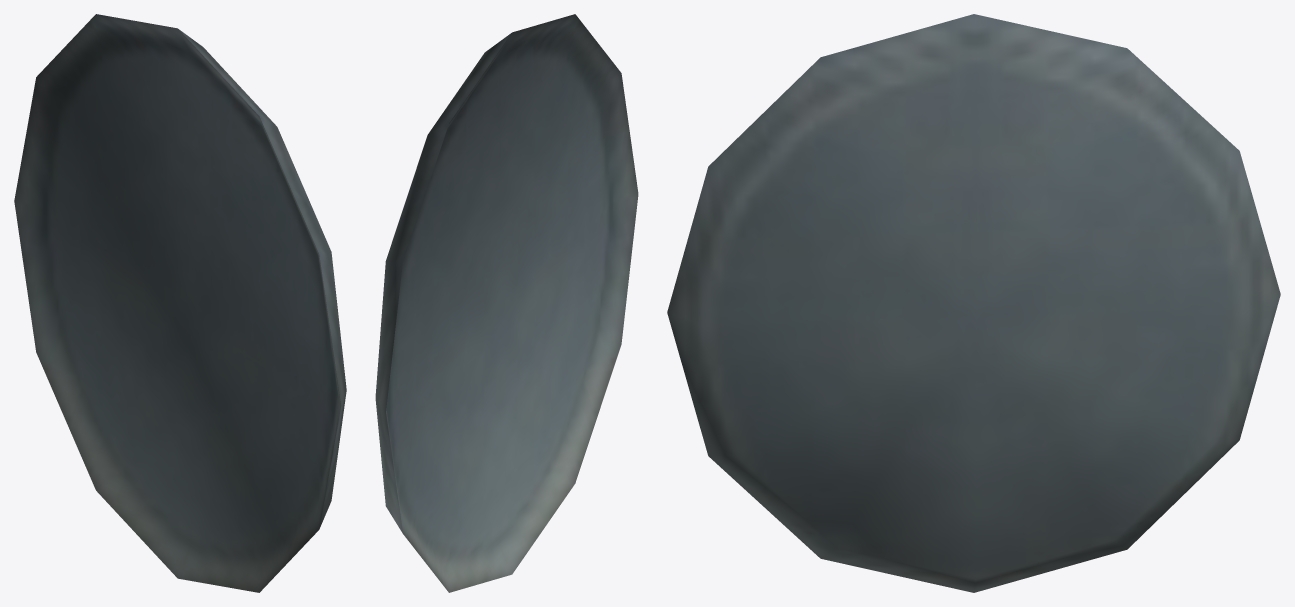
File: waitressTray.glb
3 views of the same model, side by side, from view 1: azimuth 30°, elevation 25°; view 2: azimuth 150°, elevation 25°; view 3: azimuth 270°, elevation 25° (orthographic). The views are drawn at different scales.
Parts seen in each view (by area): view 1: waitressTray; view 2: waitressTray; view 3: waitressTray.
Part boxes in pixels (x1,y1,x2,y2): waitressTray: (14, 14, 346, 592); waitressTray: (375, 14, 638, 592); waitressTray: (667, 14, 1280, 592).
Bounding box in the file's own units: 0.0369 × 0.3327 × 0.3196.
Materials: 1 (1 with a texture image).
